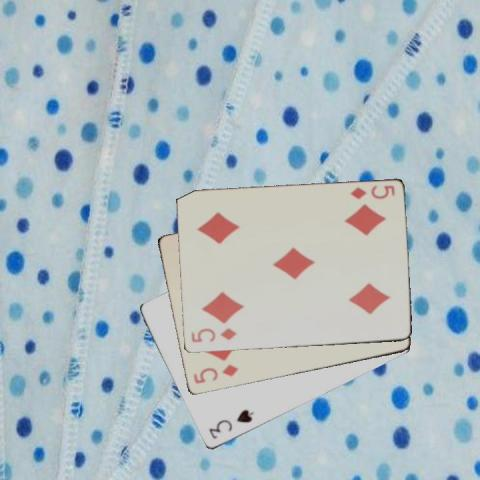3s: (206, 407, 255, 441)
5d: (190, 362, 239, 385), (188, 325, 238, 344), (347, 183, 395, 200)
